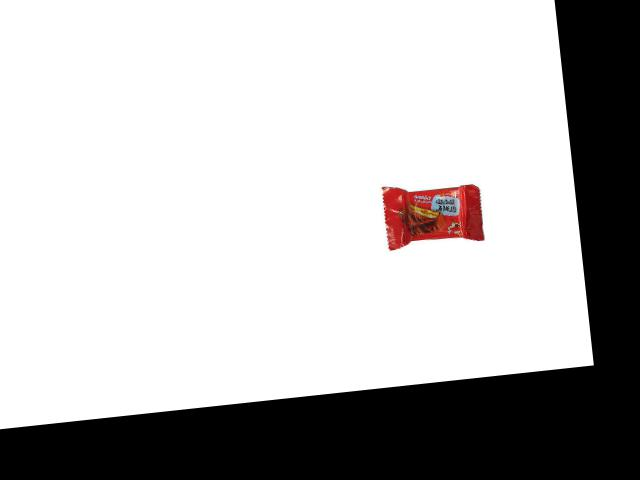chocolate: (379, 169, 493, 249)
